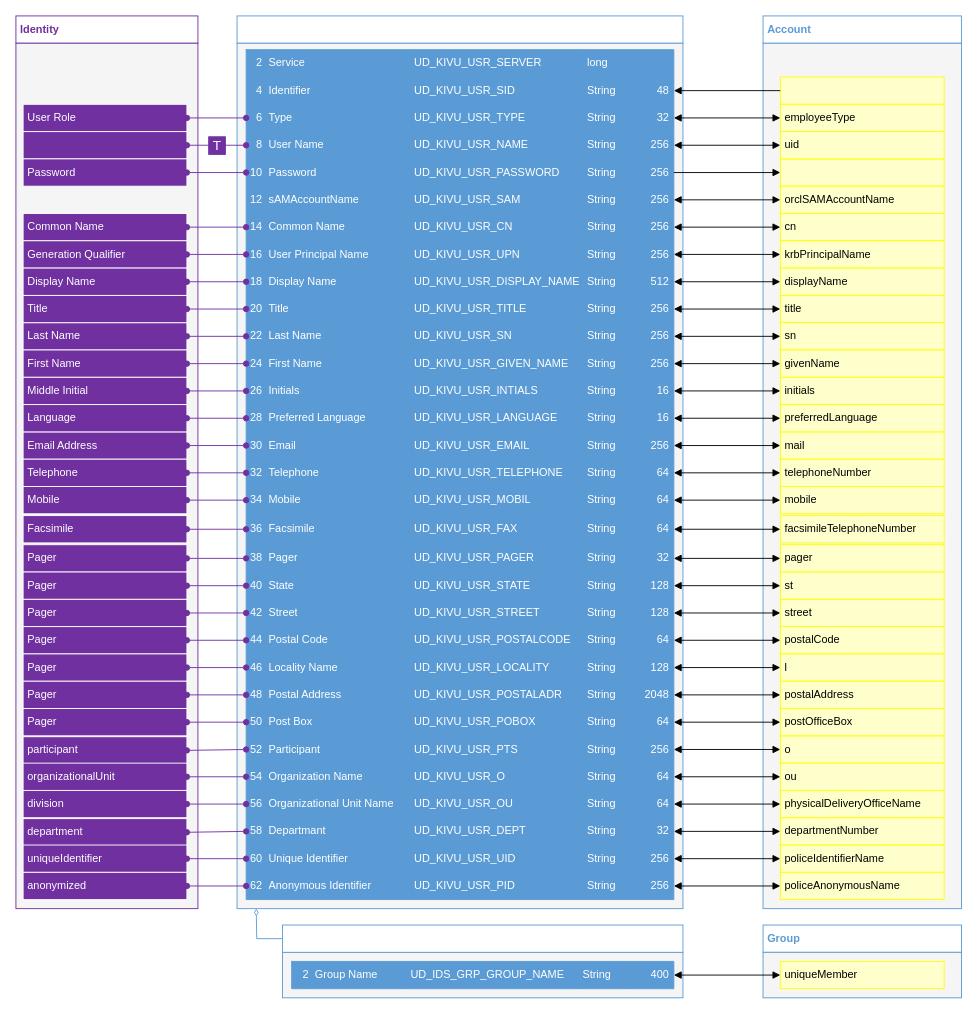
Some shapes in this 978 by 1014 pixel diagram are drawn without their labels. The shapes that lost their labels are listed below. From the top down, each one's box as (x1, y1, x2, y2) in pixels, then its label:
(236, 15, 683, 43): IDS Account
(779, 76, 944, 104): entryUUID
(22, 131, 187, 159): User Login
(779, 158, 944, 186): userPassword
(282, 924, 683, 952): IDS Account Group
